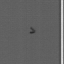dust: (28, 26, 36, 34)
